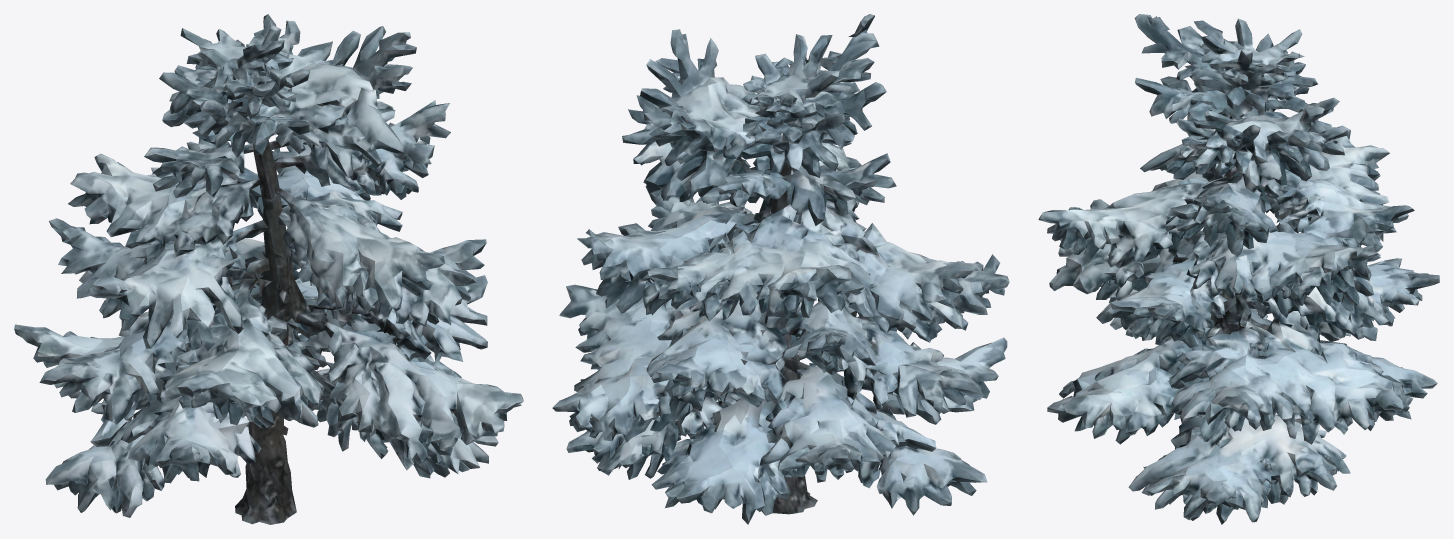
The model's file is aholo-g1-fir.glb.
3 renders of one model, left to right at view 1: azimuth 30°, elevation 25°; view 2: azimuth 150°, elevation 25°; view 3: azimuth 270°, elevation 25°, orthographic. The views are drawn at different scales.
Parts seen in each view (by area): view 1: geometry_0; view 2: geometry_0; view 3: geometry_0.
Part boxes in pixels (bbox=[...]): geometry_0: bbox=[14, 14, 523, 524]; geometry_0: bbox=[552, 14, 1009, 524]; geometry_0: bbox=[1038, 14, 1439, 524].
Bounding box in the file's own units: 5.71 × 6 × 5.05.
Materials: 1 (1 with a texture image).
